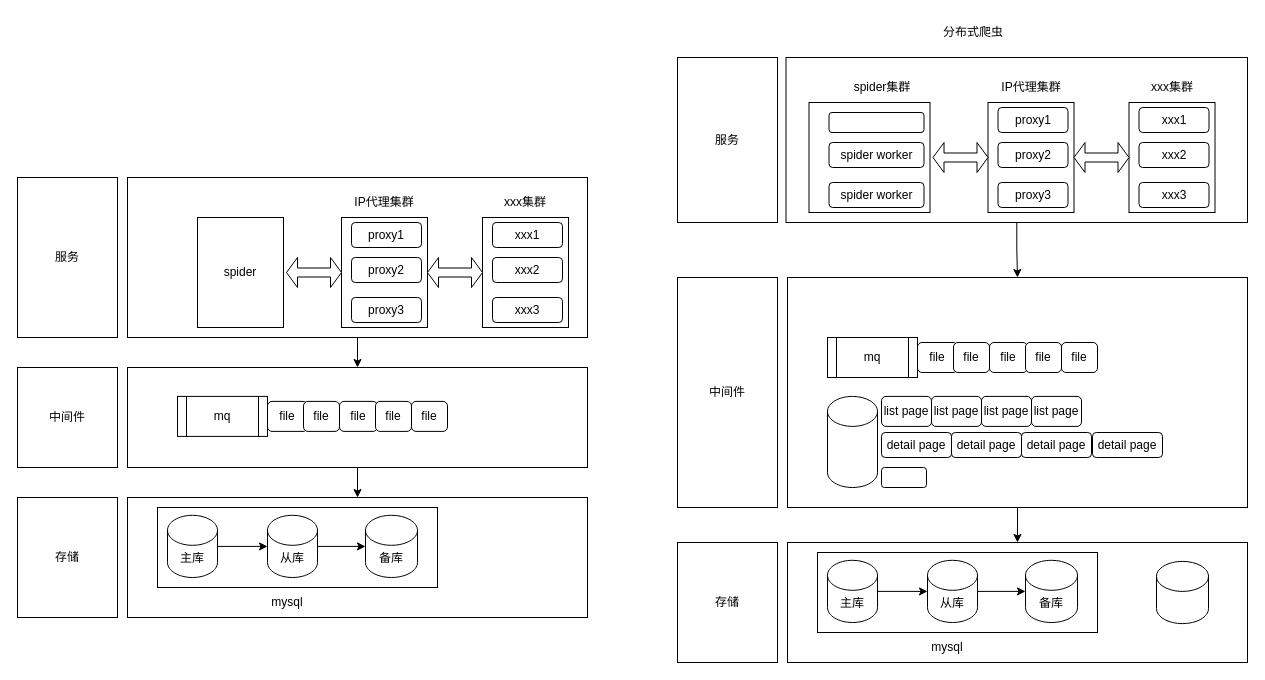
Image size: 1265x680. Some labels were removed from this diagram. The box of each missing label's shape, as (x1, y1, x2, y2) in pixels:
BitMap: (880, 466, 926, 488)
ES: (1156, 560, 1208, 624)
redis: (826, 395, 878, 488)
spider Manager: (828, 112, 924, 132)
